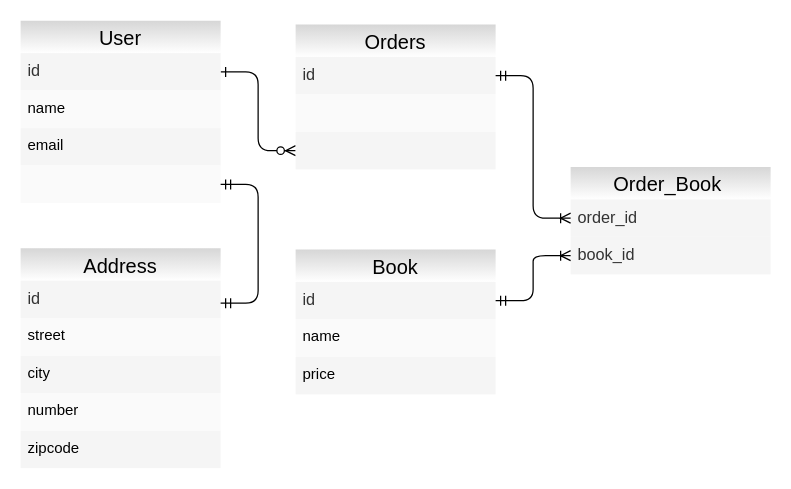
Image size: 791x489. Some labels were removed from this diagram. Each missing label, with the centre of its shape:
"address_id" belongs at [120,183].
"order_date" belongs at [395,112].
"user_id" belongs at [395,150].
